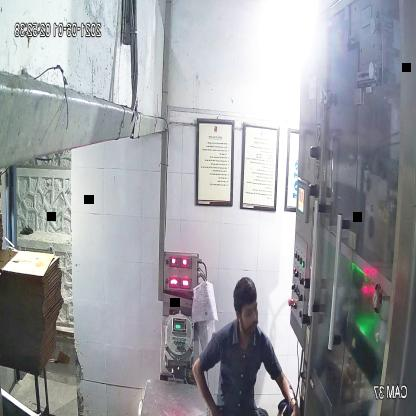no_goggles: (235, 298, 262, 322)
